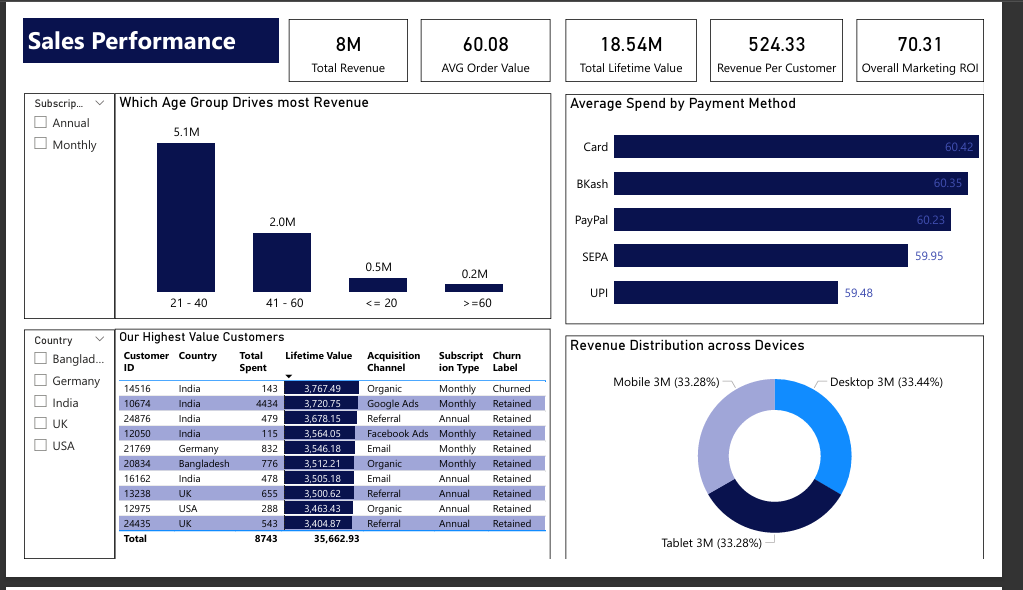

The page's visual inventory and layout, read from the dashboard file:
{"tool":"powerbi","page":{"name":"Sales Performance","canvas":[1280,720],"ordinal":1},"visuals":[{"type":"card","fields":{"Values":["Table.Total Revenue"]},"box":[352.8,0,159.6,84],"z":0},{"type":"card","fields":{"Values":["Table.AVG Order Value"]},"box":[529.1,0,173,84],"z":1000},{"type":"card","fields":{"Values":["Table.Total Lifetimevalue"]},"box":[722.3,0,174.7,84],"z":2000},{"type":"card","fields":{"Values":["Table.Revenue Per Customer"]},"box":[915.5,0,176.4,84],"z":3000},{"type":"card","fields":{"Values":["Table.Overal  Marketing ROI"]},"box":[1110.3,0,169.7,84],"z":4000},{"type":"clusteredColumnChart","title":"Which Age Group Drives most Revenue","fields":{"Category":["Sales - Marketing customer data.Age Category"],"Y":["Table.Total Revenue"]},"box":[121.5,98.6,581,301.1],"z":5000},{"type":"clusteredBarChart","title":"Average Spend by Payment Method","fields":{"Category":["Sales - Marketing customer data.payment_method"],"Y":["Table.AVG Order Value"]},"box":[721.9,100.4,558.1,306.4],"z":6000},{"type":"tableEx","title":"Our Highest Value Customers","fields":{"Values":["Sales - Marketing customer data.customer_id","Sales - Marketing customer data.country","Sum(Sales - Marketing customer data.total_spent)","Sum(Sales - Marketing customer data.lifetime_value)","Sales - Marketing customer data.acquisition_channel","Sales - Marketing customer data.subscription_type","Sales - Marketing customer data.Churn Label"]},"box":[120.9,413.2,581.2,307.4],"z":7000},{"type":"slicer","fields":{"Values":["Sales - Marketing customer data.subscription_type"]},"box":[0,99.1,120.9,300.7],"z":8000},{"type":"slicer","fields":{"Values":["Sales - Marketing customer data.country"]},"box":[0,413.8,121.5,306.4],"z":9000},{"type":"textbox","box":[0,0,341,60.5],"z":10000},{"type":"donutChart","title":"Revenue Distribution across Devices","fields":{"Category":["Sales - Marketing customer data.device_type"],"Y":["Table.Total Revenue"]},"box":[722.3,421.6,557.7,299],"z":11000}]}

Visuals, with their boxes in screenshot pixels (x1, y1, x2, y2), scaled from the page's 1280x720 canvas onto the 1023x590 screenshot:
card - Table.Total Revenue: locate(282, 0, 410, 69)
card - Table.AVG Order Value: locate(423, 0, 561, 69)
card - Table.Total Lifetimevalue: locate(577, 0, 717, 69)
card - Table.Revenue Per Customer: locate(732, 0, 873, 69)
card - Table.Overal  Marketing ROI: locate(887, 0, 1022, 69)
"Which Age Group Drives most Revenue" clusteredColumnChart: locate(97, 81, 561, 328)
"Average Spend by Payment Method" clusteredBarChart: locate(577, 82, 1022, 333)
"Our Highest Value Customers" tableEx: locate(97, 339, 561, 589)
slicer - Sales - Marketing customer data.subscription_type: locate(0, 81, 97, 328)
slicer - Sales - Marketing customer data.country: locate(0, 339, 97, 589)
textbox: locate(0, 0, 273, 50)
"Revenue Distribution across Devices" donutChart: locate(577, 345, 1022, 589)
